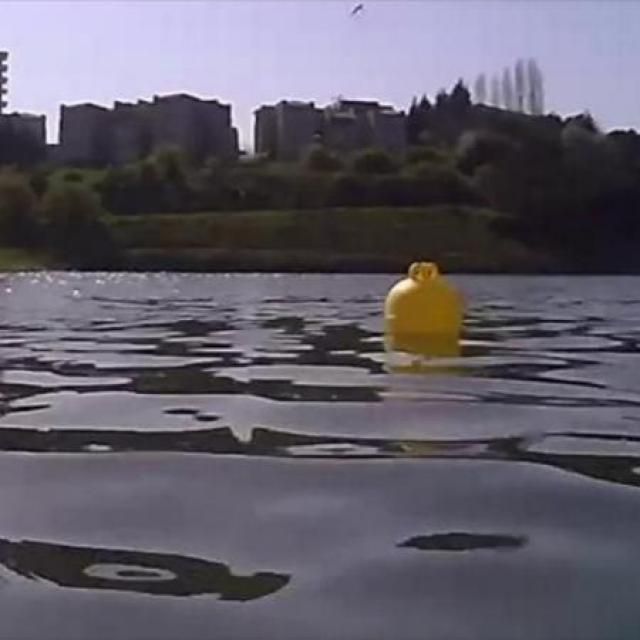buoy: (385, 261, 464, 343)
